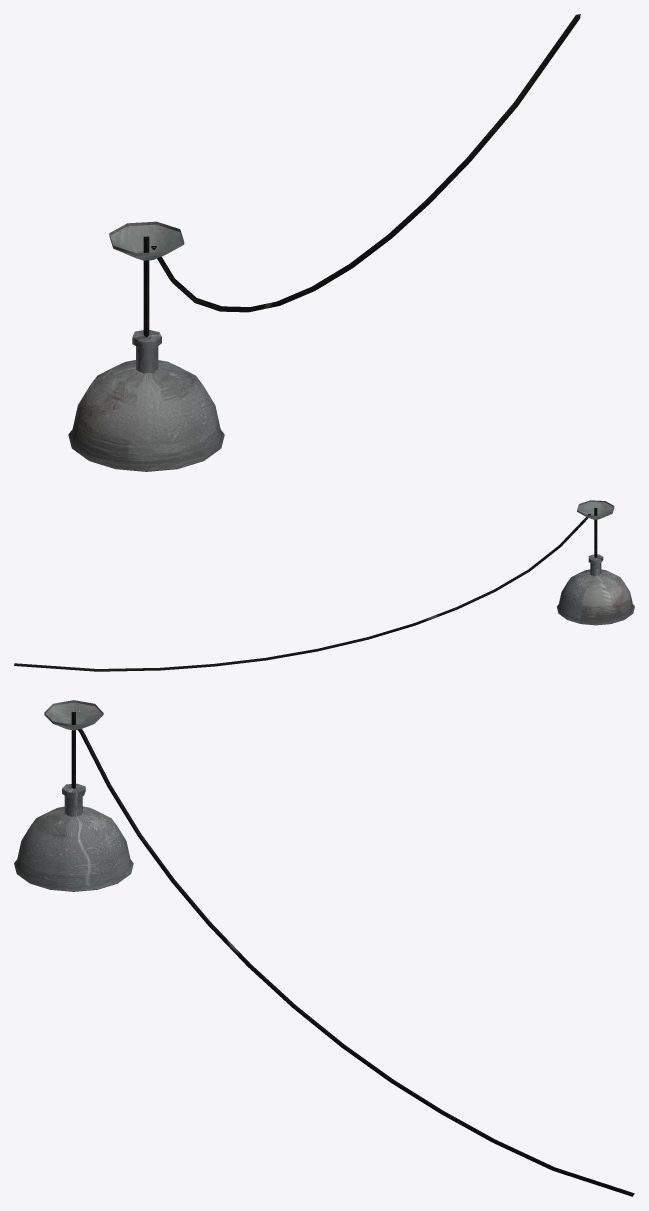
Rendered from lampe.fbx.
3 views of the same model, one above another, from view 1: azimuth 30°, elevation 25°; view 2: azimuth 150°, elevation 25°; view 3: azimuth 270°, elevation 25° (orthographic). The views are drawn at different scales.
Visible parts, largest first — view 1: polySurface195; view 2: polySurface195; view 3: polySurface195.
Boxes of the visible parts, bbox=[...] form: polySurface195: bbox=[68, 14, 580, 471]; polySurface195: bbox=[14, 500, 634, 671]; polySurface195: bbox=[14, 700, 634, 1196].
Size of the model in its own units: 177 by 52.96 by 144.
